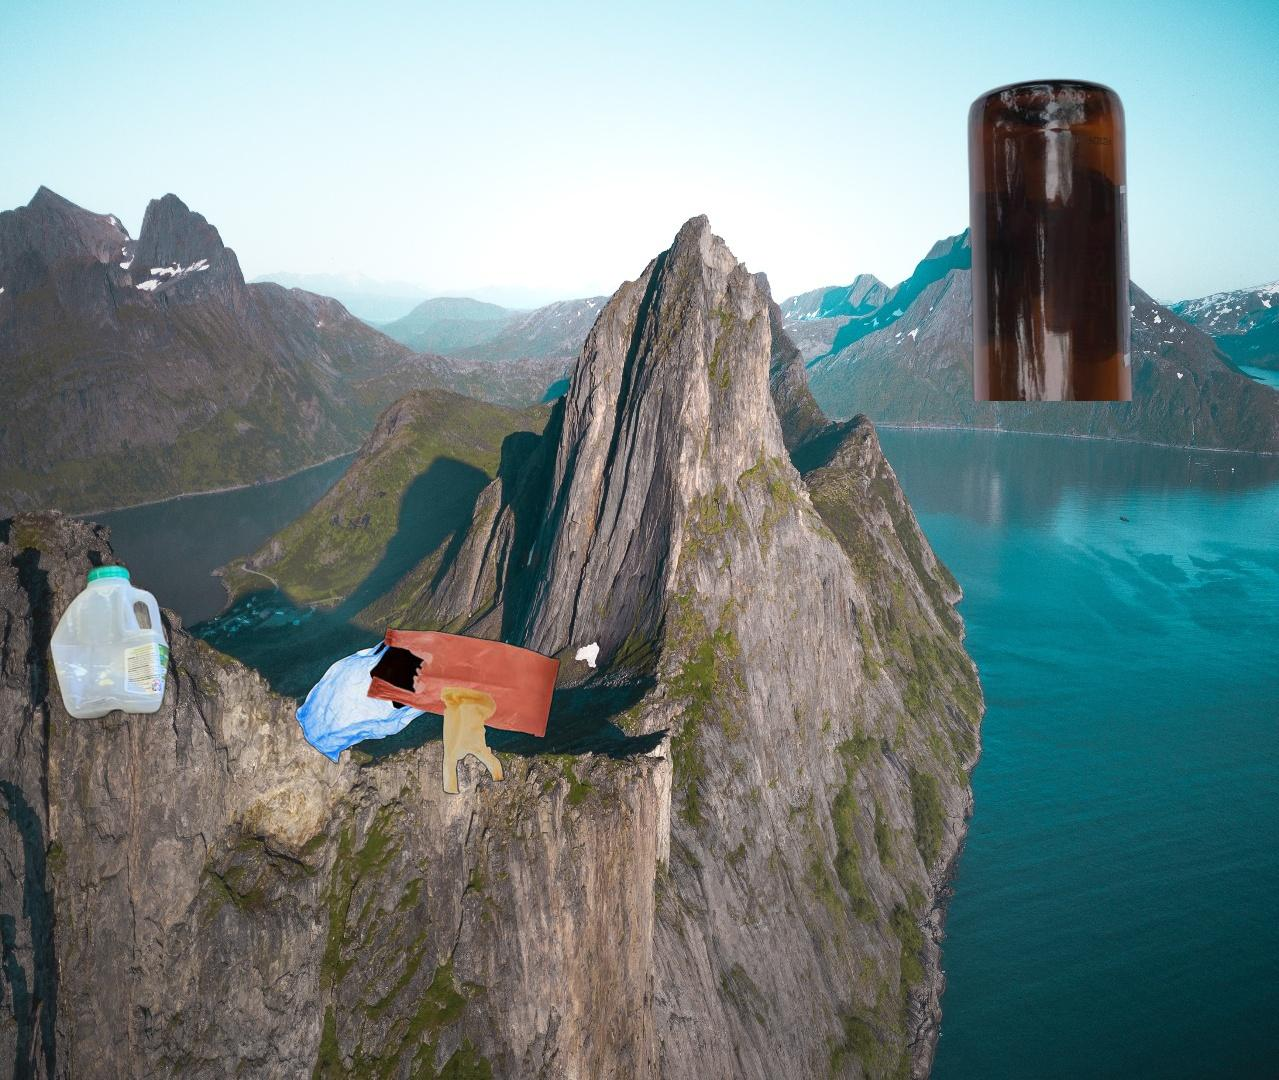glass: (963, 77, 1138, 401)
plastic-bag: (292, 624, 563, 797)
plastic-bottles: (45, 558, 174, 726)
